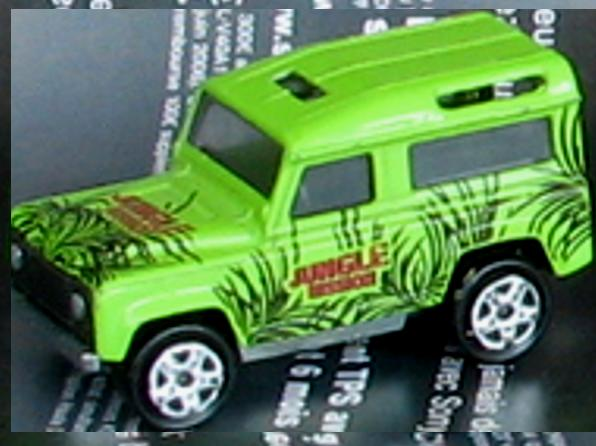toy-car: (11, 9, 596, 432)
